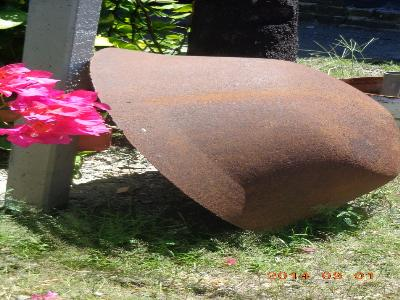bowl: (87, 44, 400, 242)
